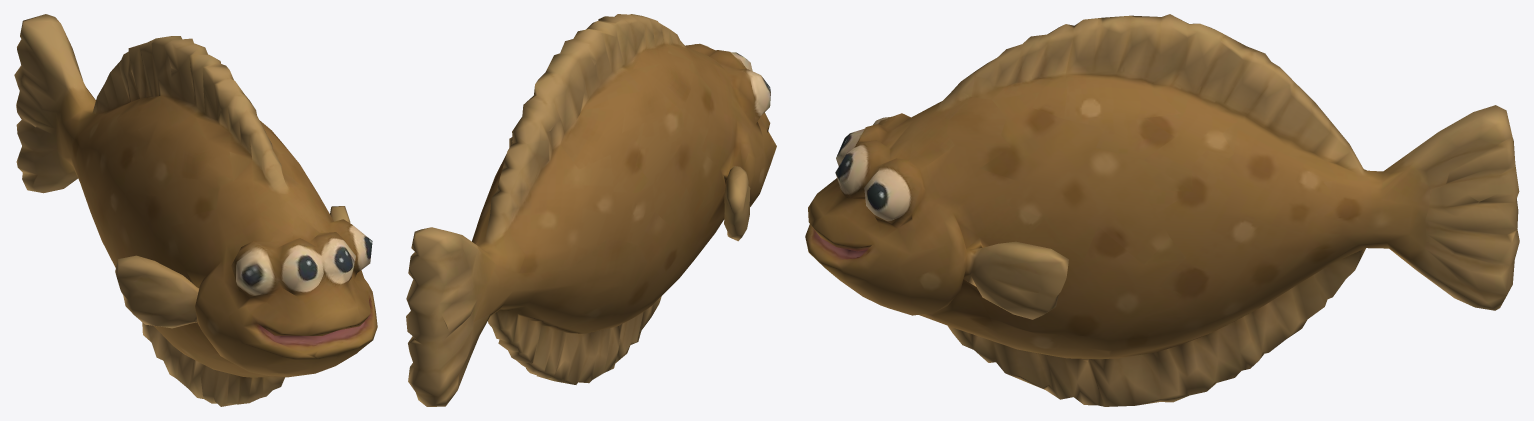
The model's file is fish-flounder.glb.
The picture shows the model from 3 angles, left to right: view 1: azimuth 30°, elevation 25°; view 2: azimuth 150°, elevation 25°; view 3: azimuth 270°, elevation 25°; orthographic projection. The views are drawn at different scales.
Parts seen in each view (by area): view 1: tripo_node_05cc4b86-15dc-4b85-9805-825803304e4e; view 2: tripo_node_05cc4b86-15dc-4b85-9805-825803304e4e; view 3: tripo_node_05cc4b86-15dc-4b85-9805-825803304e4e.
Boxes of the visible parts, <box> form: tripo_node_05cc4b86-15dc-4b85-9805-825803304e4e: <box>14,14,377,406</box>; tripo_node_05cc4b86-15dc-4b85-9805-825803304e4e: <box>406,14,776,406</box>; tripo_node_05cc4b86-15dc-4b85-9805-825803304e4e: <box>805,14,1519,406</box>.
Size of the model in its own units: 0.4211 by 0.5963 by 1.
1 material, 1 textured.
